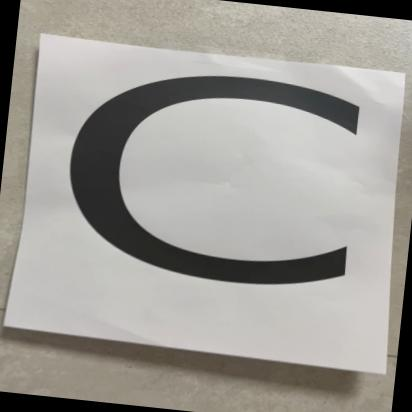seat: (34, 34, 412, 367)
